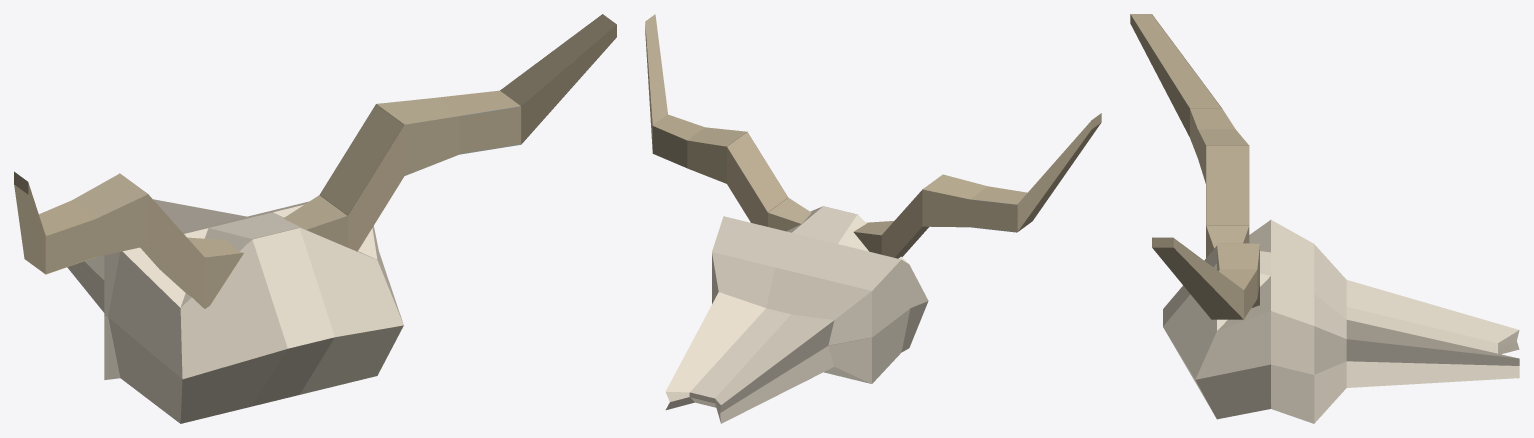
Rendered from prop_cow_skull.fbx.
3 views of the same model, side by side, from view 1: azimuth 30°, elevation 25°; view 2: azimuth 150°, elevation 25°; view 3: azimuth 270°, elevation 25° (orthographic). The views are drawn at different scales.
Visible parts, largest first — view 1: Cow_Skull, L_Horn_1, L_Horn; view 2: Cow_Skull, L_Horn_1, L_Horn; view 3: Cow_Skull, L_Horn, L_Horn_1.
Part boxes in pixels (x1,y1,x2,y2): Cow_Skull: (43,199,403,423); L_Horn_1: (283,14,616,251); L_Horn: (14,171,243,308); Cow_Skull: (665,206,928,423); L_Horn_1: (645,14,811,231); L_Horn: (853,113,1101,258); Cow_Skull: (1163,220,1519,423); L_Horn: (1130,14,1249,257); L_Horn_1: (1152,237,1259,319).
Size of the model in its own units: 306 by 162 by 225.
1 material, 1 textured.
